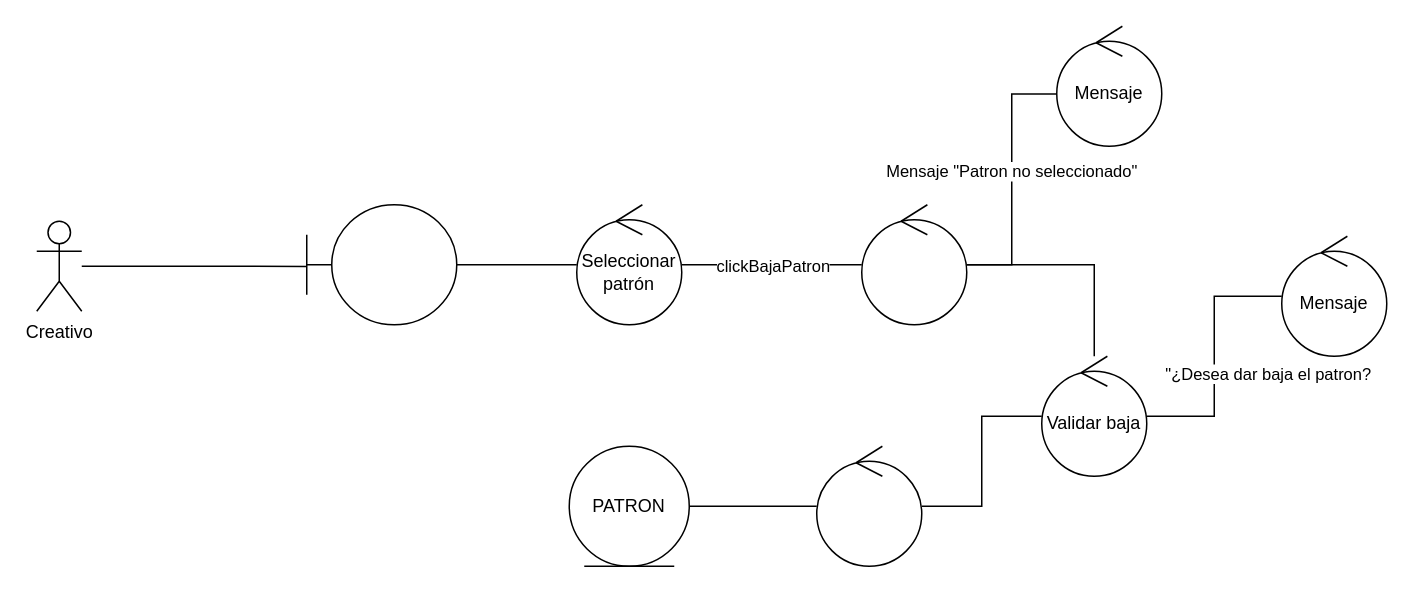
This 1413x593 diagram has some shape labels left out. The centre of each missing label's shape, as x and y in pixels:
"Dar baja patron" goes at point (868, 505).
"Patrones registrados" goes at point (381, 264).
"Validar selección" goes at point (913, 264).
